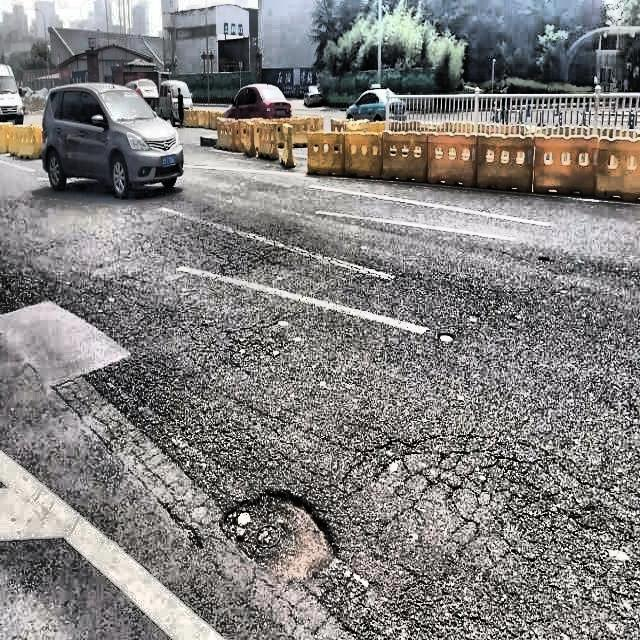buraco: (222, 488, 336, 578), (440, 332, 452, 344), (538, 256, 548, 263)
